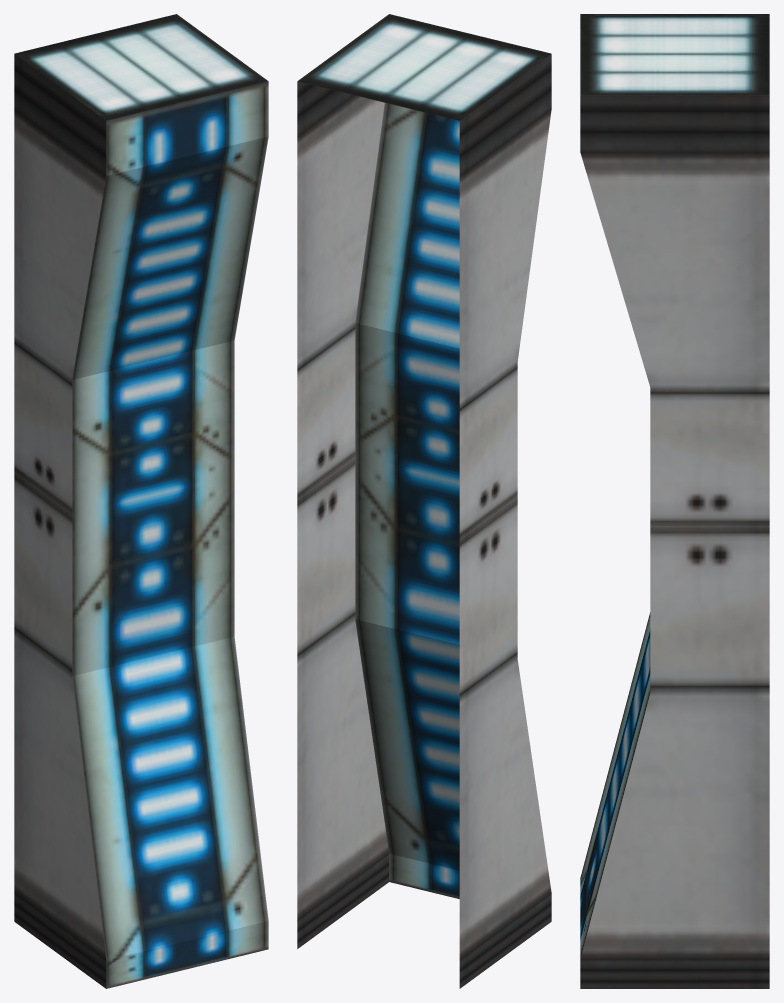
The model's file is decoracaoparede1.fbx.
The picture shows the model from 3 angles, left to right: view 1: azimuth 30°, elevation 25°; view 2: azimuth 150°, elevation 25°; view 3: azimuth 270°, elevation 25°; orthographic projection. The views are drawn at different scales.
Parts seen in each view (by area): view 1: Cylinder; view 2: Cylinder; view 3: Cylinder.
Boxes of the visible parts, <box> form: Cylinder: <box>14,14,268,988</box>; Cylinder: <box>297,14,551,988</box>; Cylinder: <box>580,14,769,988</box>.
Bounding box in the file's own units: 0.585 × 2.99 × 0.5736.
